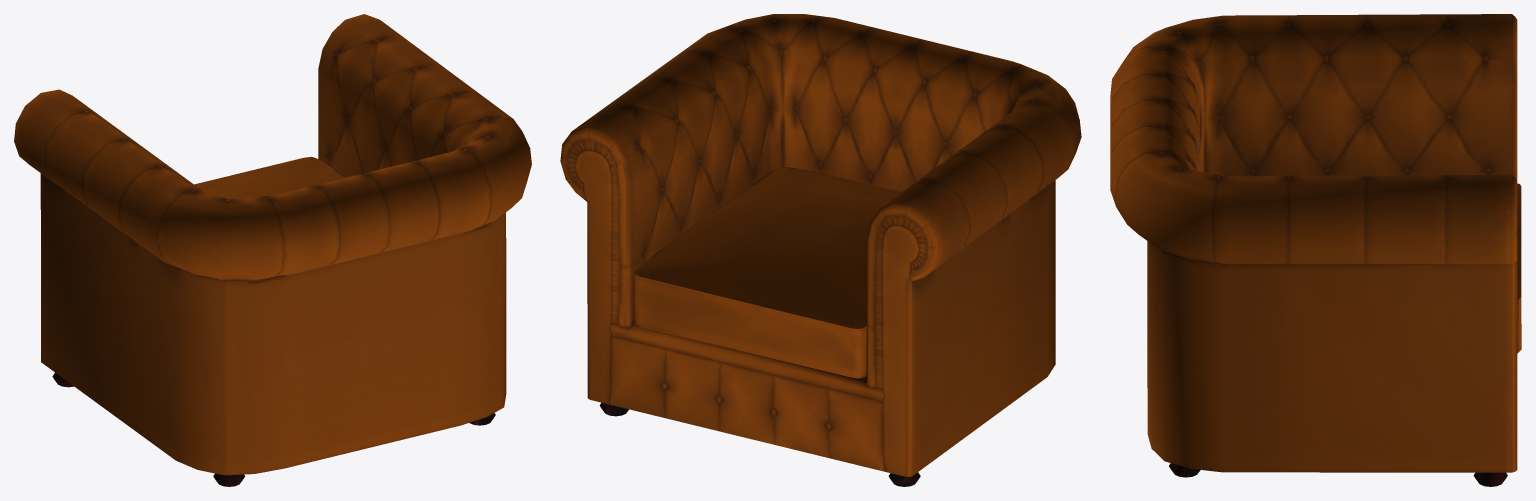
File: Sofa.obj
3 views of the same model, side by side, from view 1: azimuth 30°, elevation 25°; view 2: azimuth 150°, elevation 25°; view 3: azimuth 270°, elevation 25° (orthographic). The views are drawn at different scales.
Visible parts, largest first — view 1: Armchair; view 2: Armchair; view 3: Armchair.
Boxes of the visible parts, x1,y1,x2,y2 form: Armchair: [14, 14, 531, 486]; Armchair: [560, 14, 1081, 486]; Armchair: [1110, 14, 1521, 486].
Bounding box in the file's own units: 1.35 × 0.9831 × 1.19.
1 material, 1 textured.
